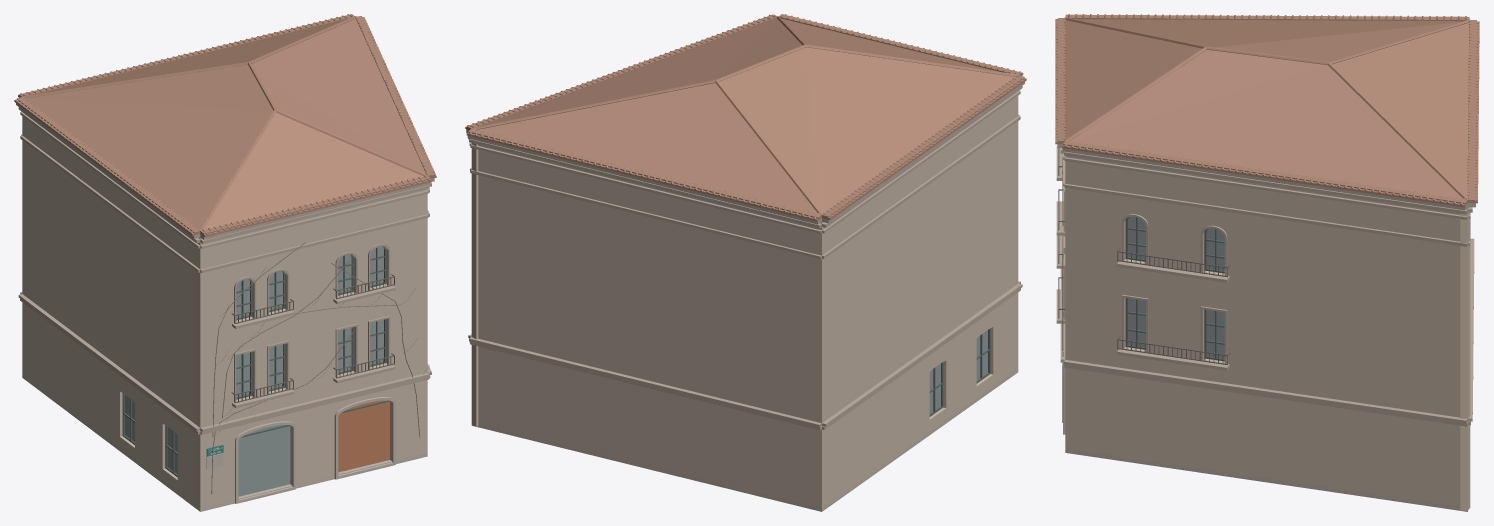
Rendered from xuhui-huaihai-road-1768-residence-web.glb.
3 renders of one model, left to right at view 1: azimuth 30°, elevation 25°; view 2: azimuth 150°, elevation 25°; view 3: azimuth 270°, elevation 25°, orthographic. The views are drawn at different scales.
Parts seen in each view (by area): view 1: 霞飞别墅淮海中路1768弄口临街住宅; view 2: 霞飞别墅淮海中路1768弄口临街住宅; view 3: 霞飞别墅淮海中路1768弄口临街住宅.
Part boxes in pixels (<box>): 霞飞别墅淮海中路1768弄口临街住宅: <box>14,14,436,511</box>; 霞飞别墅淮海中路1768弄口临街住宅: <box>465,14,1026,511</box>; 霞飞别墅淮海中路1768弄口临街住宅: <box>1055,14,1479,511</box>.
Size of the model in its own units: 14.69 by 12.86 by 13.83.
